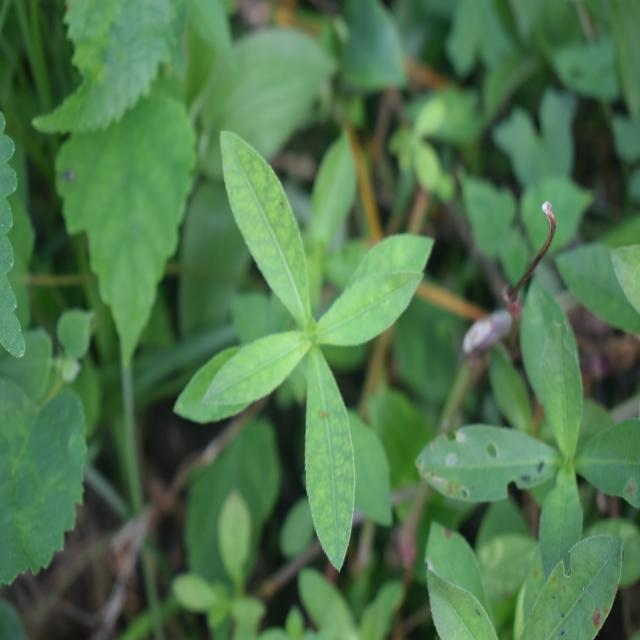Alligatorweed: (184, 118, 419, 536)
